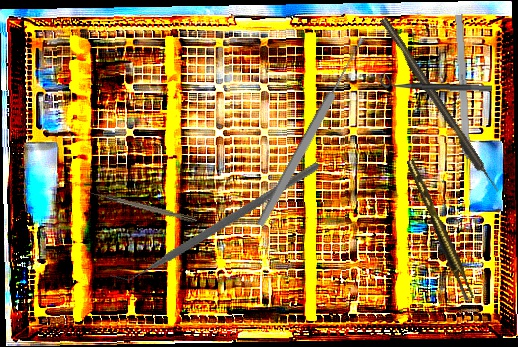Chopper: (110, 102, 320, 338)
Fixation Ring: (379, 72, 493, 92)
Hook Surgical: (379, 15, 501, 196), (88, 189, 198, 224), (455, 14, 472, 184)
Surgical Spoon: (254, 35, 369, 229)
Tissue Forceps: (406, 156, 475, 303)
